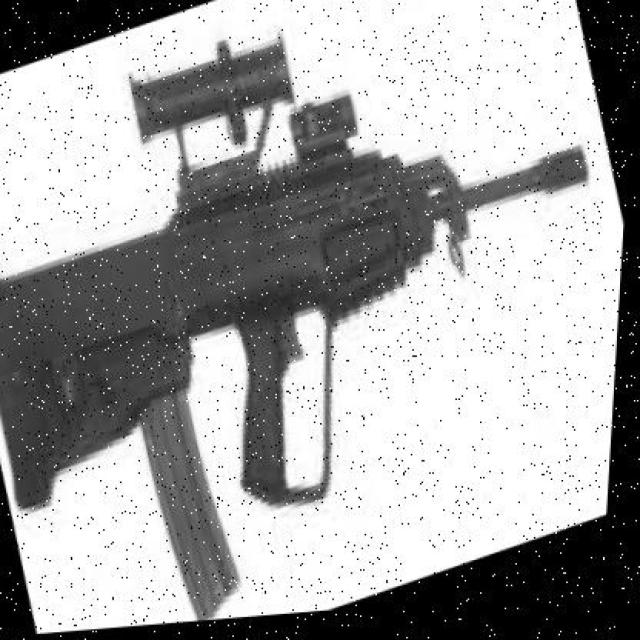weapon: (1, 31, 590, 621)
